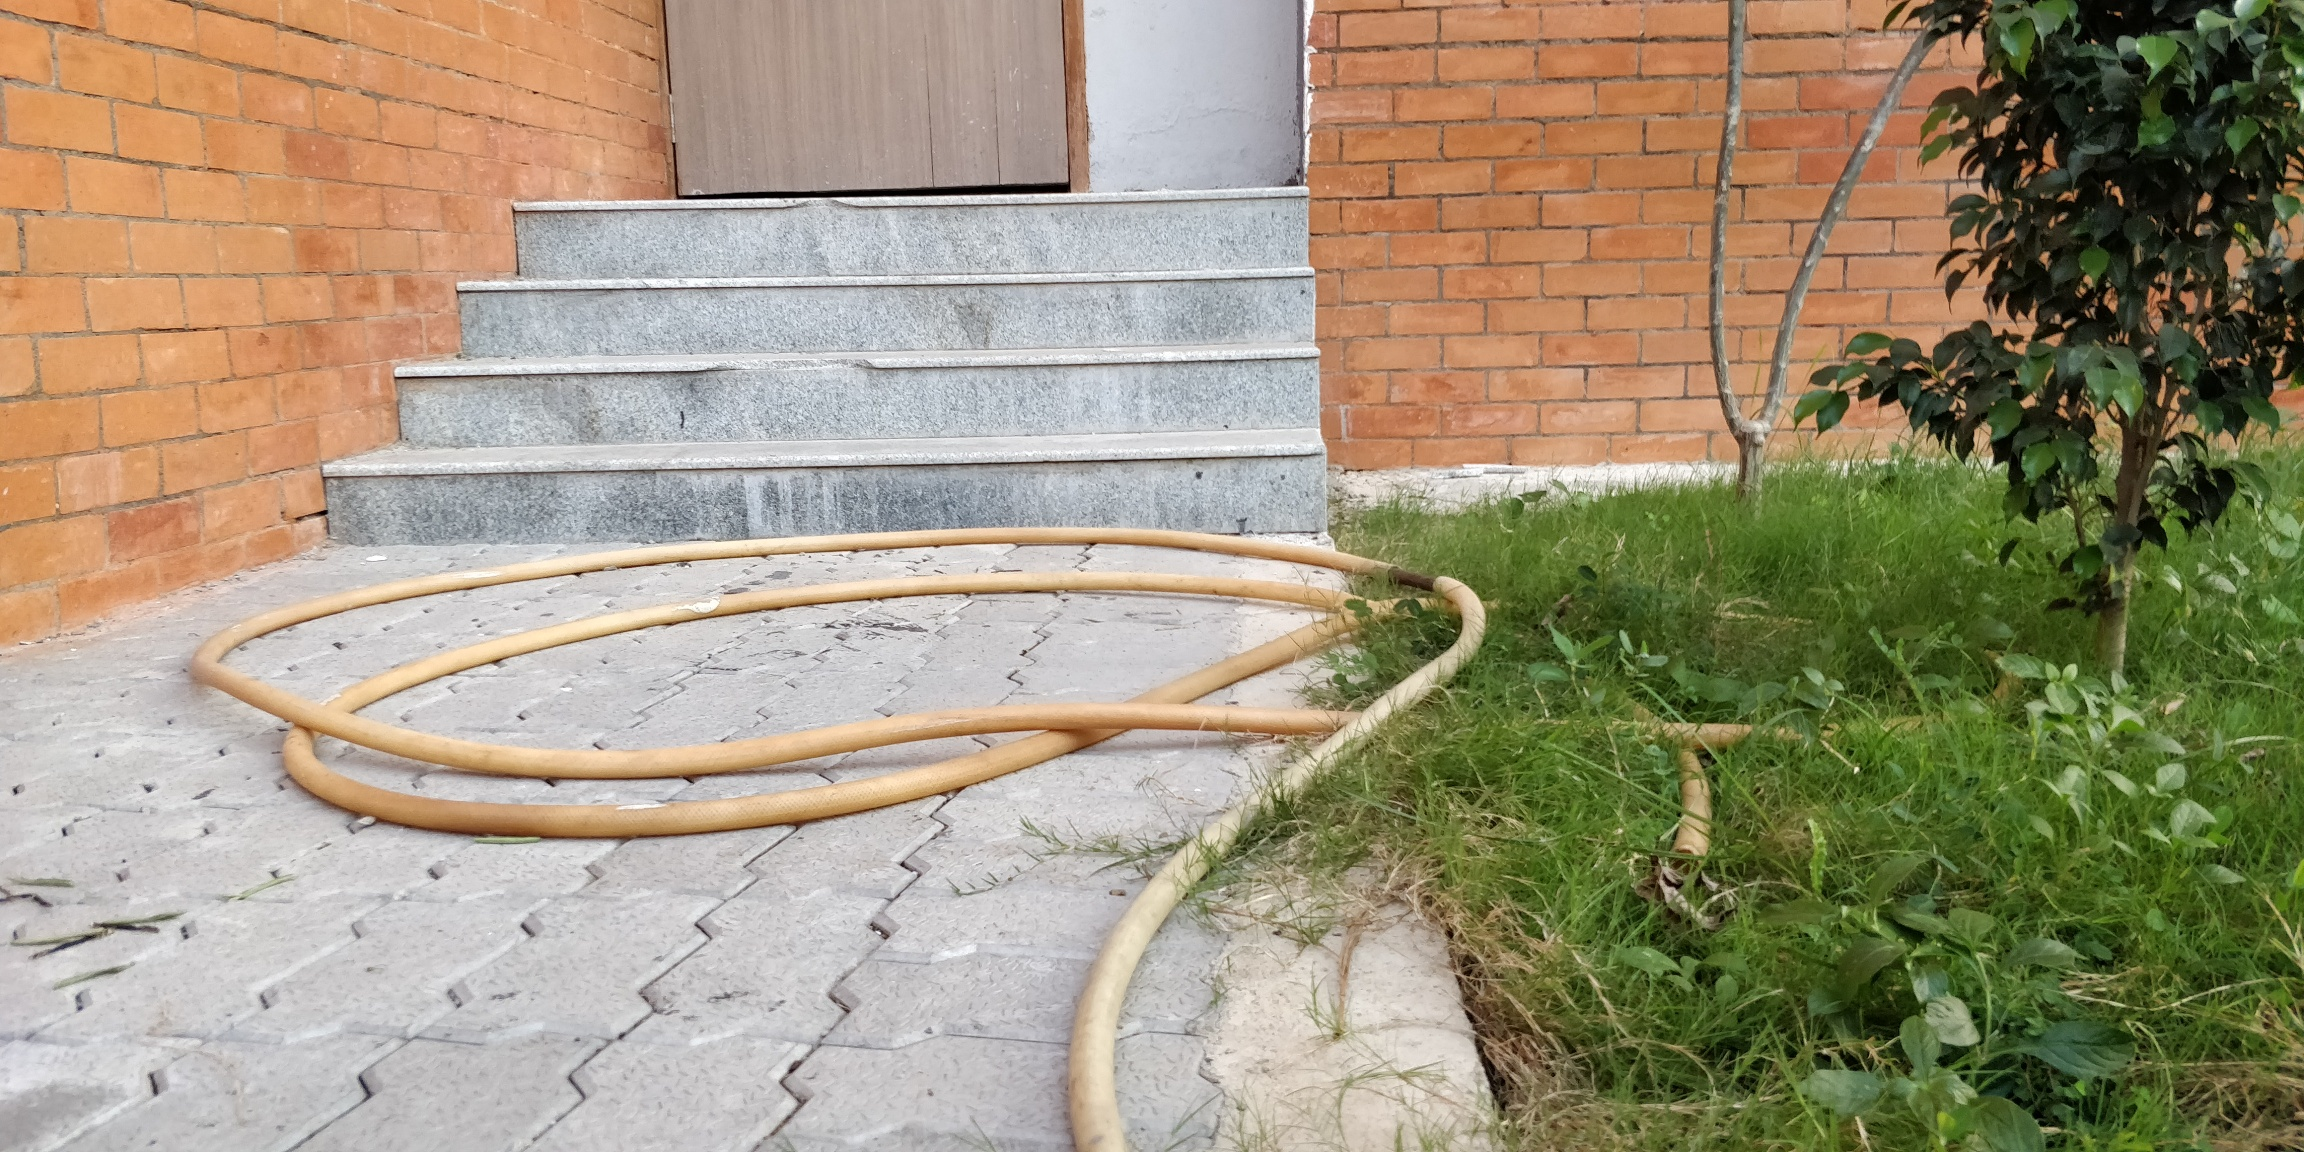stairs_up: (312, 190, 1333, 533)
